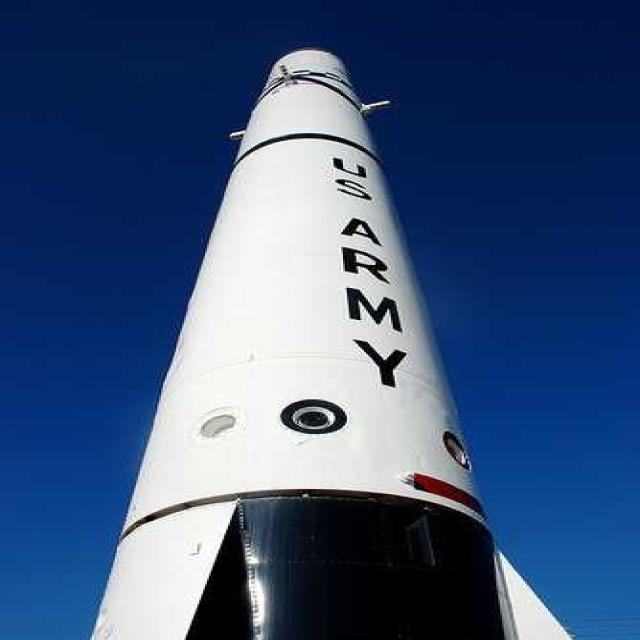missile: (108, 45, 580, 640)
